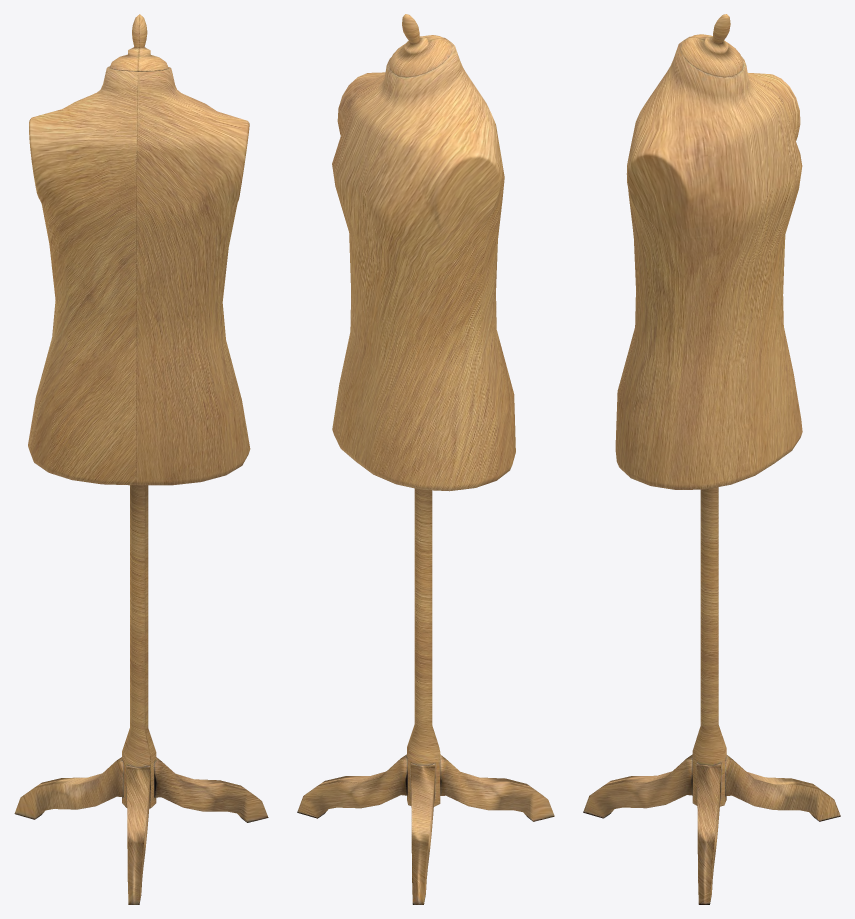
File: Manocanh (0.09, -1.4 , 0.3).glb
The picture shows the model from 3 angles, left to right: view 1: azimuth 30°, elevation 25°; view 2: azimuth 150°, elevation 25°; view 3: azimuth 270°, elevation 25°; orthographic projection.
Parts seen in each view (by area): view 1: Dress.012; view 2: Dress.012; view 3: Dress.012.
Part boxes in pixels (x1=…): Dress.012: x1=14, y1=14, x2=268, y2=904; Dress.012: x1=297, y1=14, x2=554, y2=904; Dress.012: x1=583, y1=14, x2=840, y2=904.
Bounding box in the file's own units: 0.5067 × 1.85 × 0.5183.
1 material, 1 textured.
